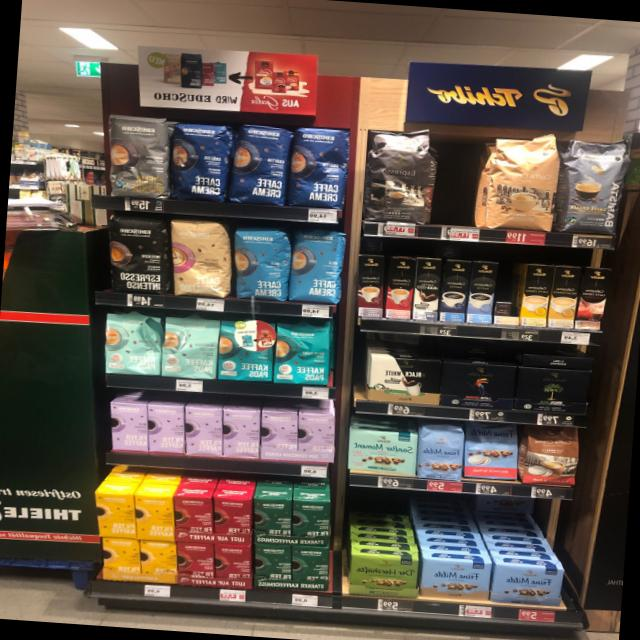BM Gemahlen: (512, 364, 591, 416)
BW Gemahlen: (366, 352, 446, 406)
Barista CC: (556, 136, 634, 238)
CC Mild: (474, 126, 567, 236)
CC Vollmundig: (516, 424, 584, 488)
Empty Shelf: (492, 260, 525, 326)
Espresso Aromatisch: (357, 122, 446, 228)
FM 36 Pads: (462, 420, 522, 482)
FM Bohne: (415, 422, 467, 481)
FM Gemahlen: (417, 555, 494, 602), (488, 561, 565, 607)
Herzhatfe Mundig: (346, 550, 421, 600)
LG Gemahlen: (439, 360, 516, 410)
SM Gemahlen: (346, 426, 418, 475)
Simo CC Colombia: (574, 266, 611, 332)
Simo CCMild bigpack: (516, 263, 552, 328)
Simo Decaff: (545, 265, 583, 330)
Simo Es Elegant: (383, 254, 416, 320)
Simo Es Kraft: (355, 252, 386, 320)
Simo Kaffee BW: (411, 257, 444, 323)
Simo Kaffee Kraft: (438, 257, 471, 324)
Simo Kaffee Mild: (464, 259, 498, 325)
